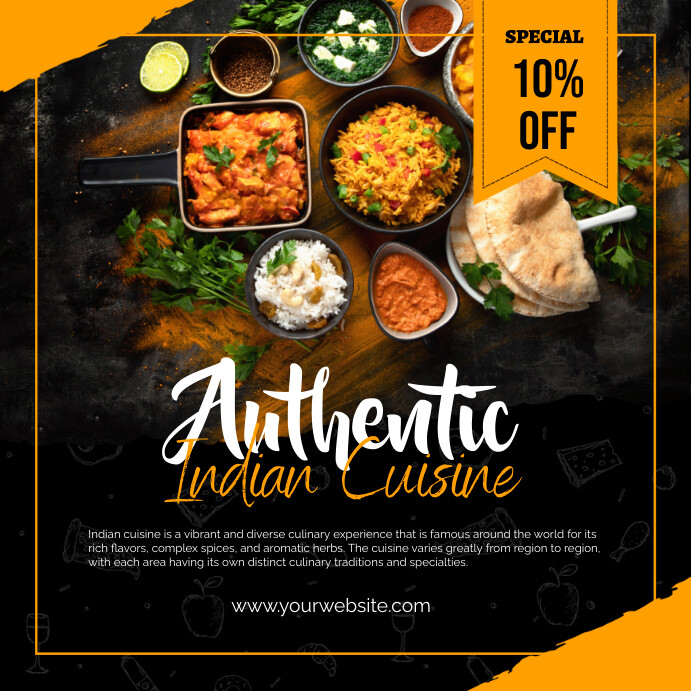CTA: (496, 26, 604, 177)
Headline: (152, 368, 544, 506)
Product: (169, 94, 594, 336)
